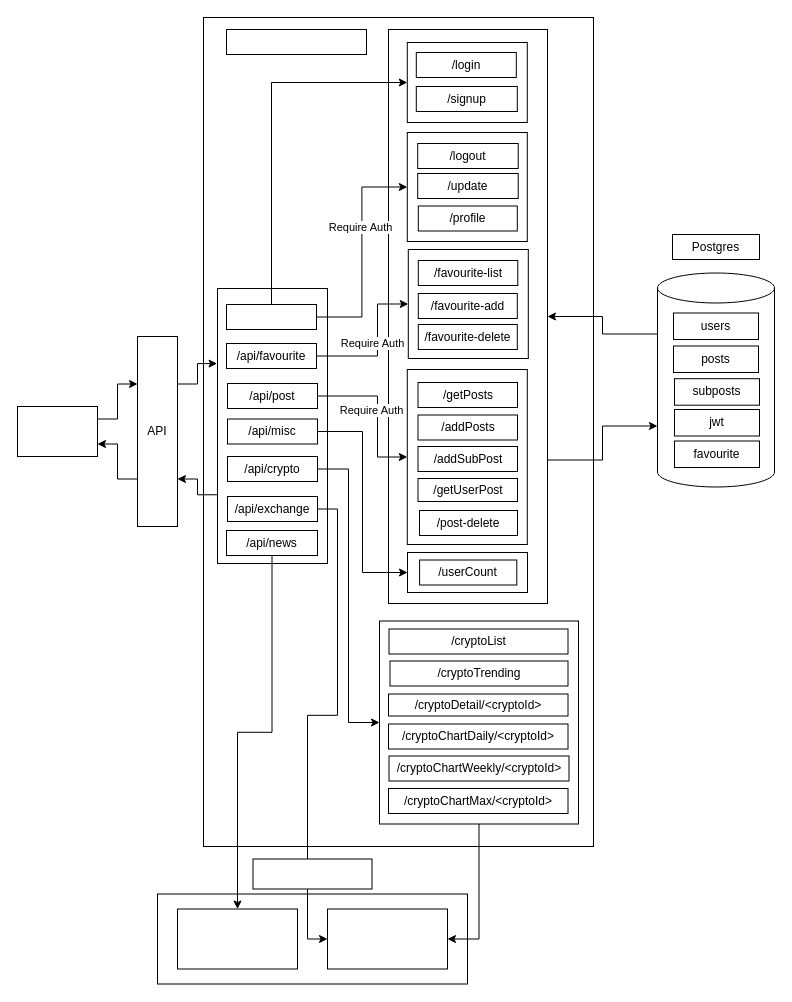
Image size: 792x1002. Some labels were removed from this diagram. The box of each missing label's shape, as (x1, y1, x2, y2) in pixels:
/api/users: (226, 304, 316, 330)
API Endpoints: (226, 28, 366, 54)
Bing News API: (176, 908, 298, 969)
CoinGecko API: (326, 908, 448, 969)
External API: (252, 858, 372, 889)
Frontend: (16, 406, 98, 456)
